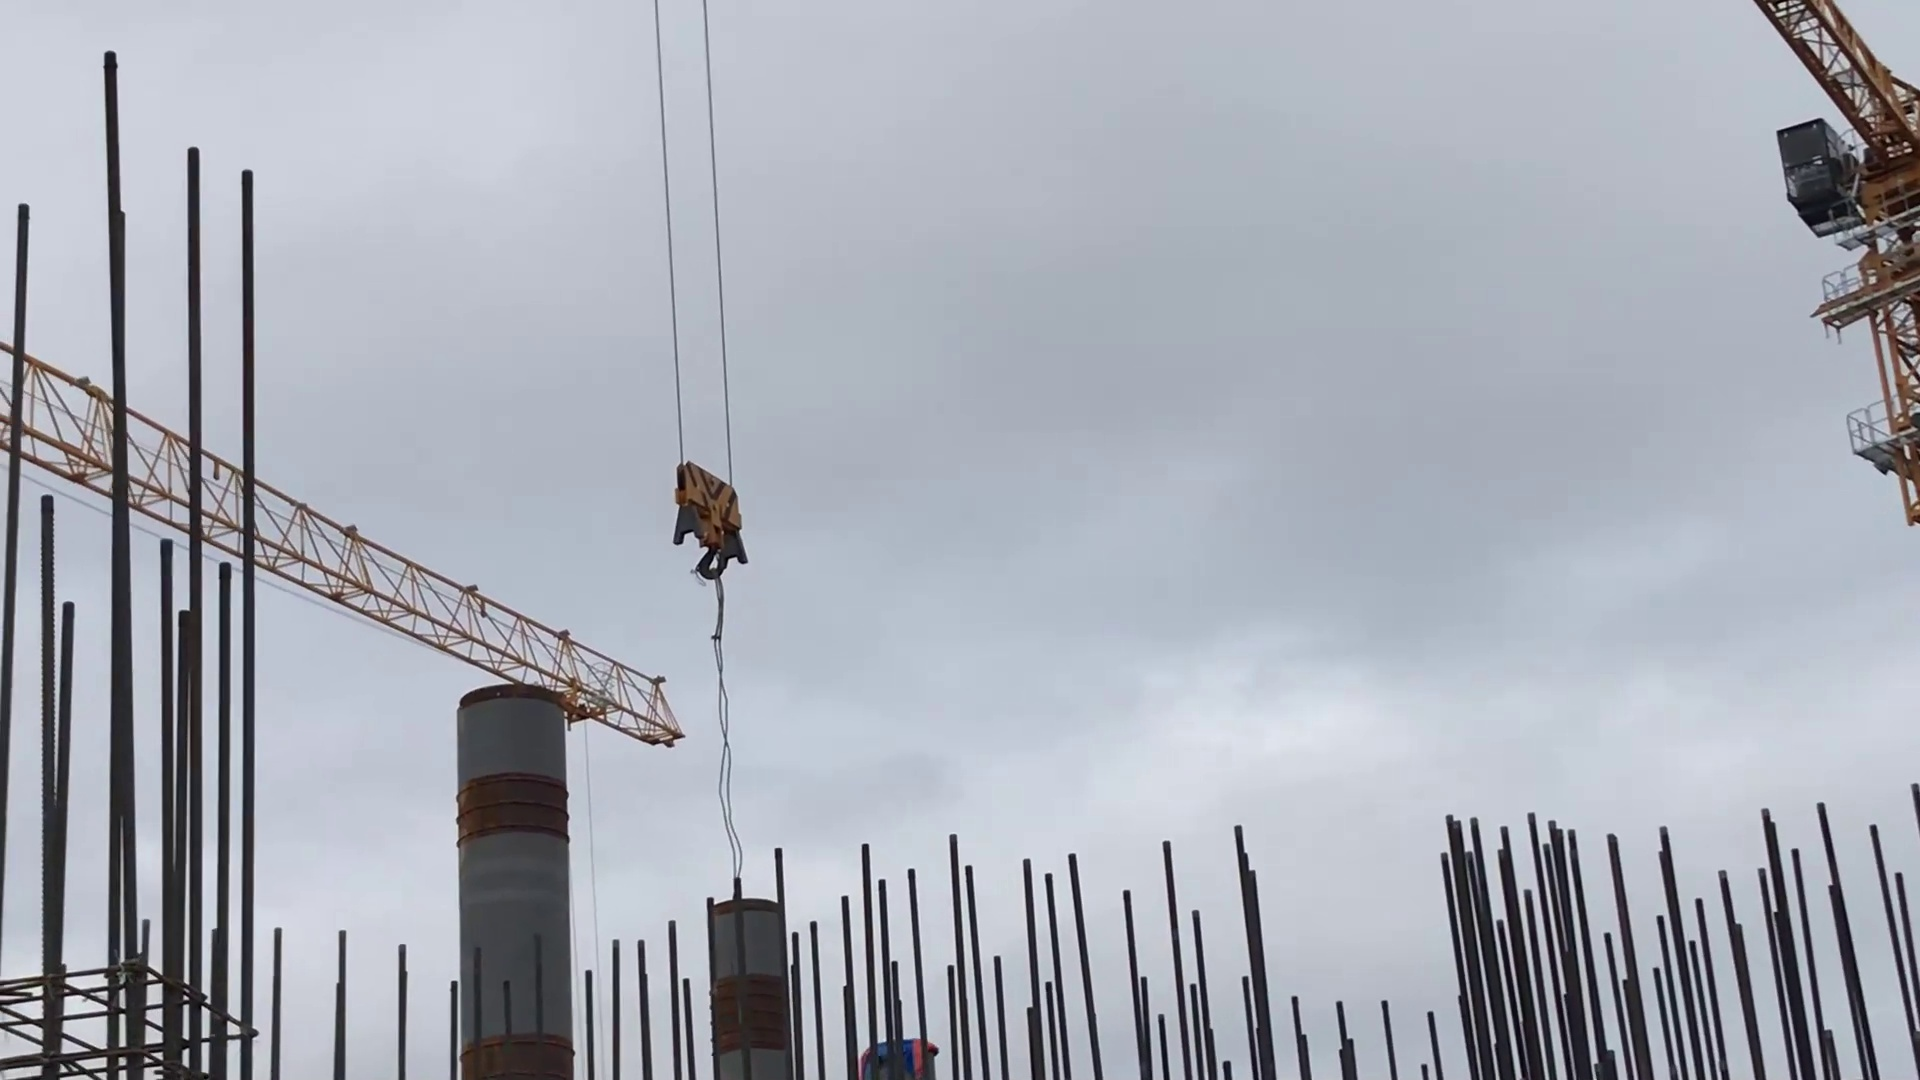hook: (647, 438, 779, 607)
